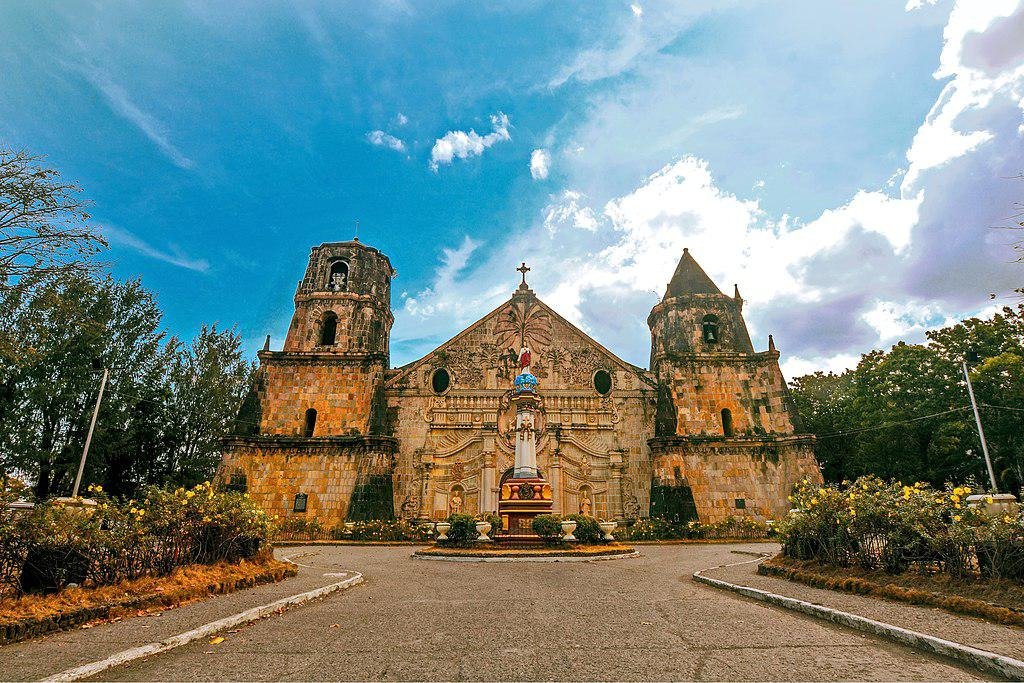Environmental Damage: (652, 383, 675, 440), (674, 342, 704, 364), (754, 447, 781, 468), (431, 347, 451, 363)
Miagao Church: (210, 213, 833, 542)
